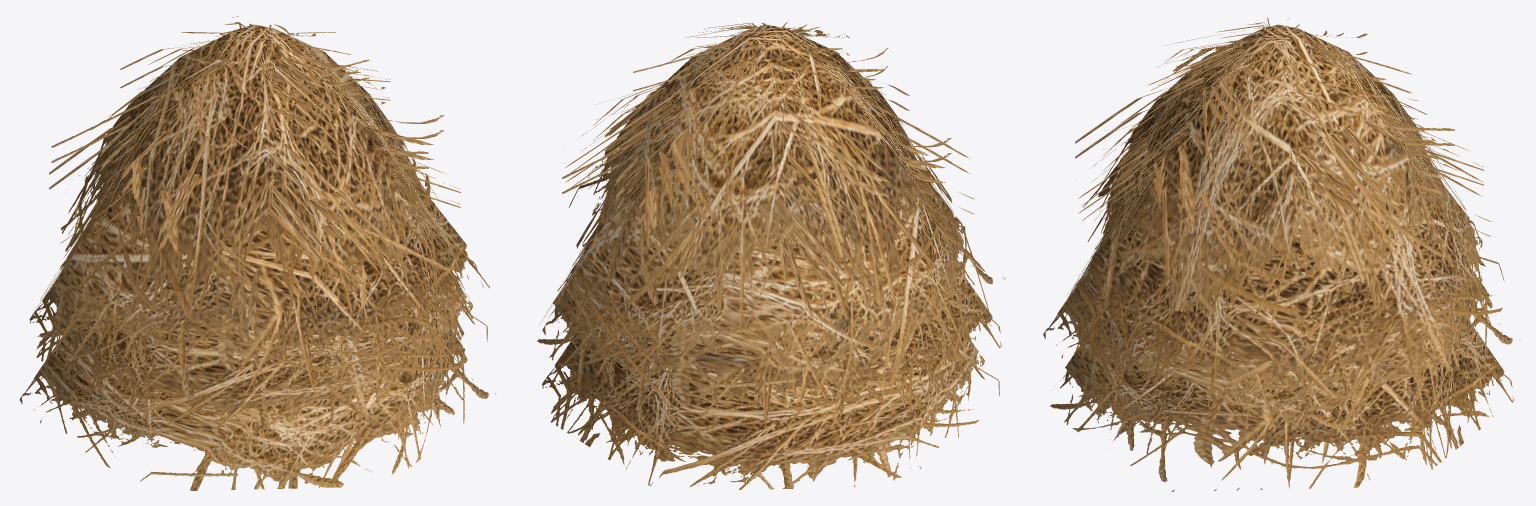
File: sheaf of hay.fbx
The picture shows the model from 3 angles, left to right: view 1: azimuth 30°, elevation 25°; view 2: azimuth 150°, elevation 25°; view 3: azimuth 270°, elevation 25°; orthographic projection.
Parts seen in each view (by area): view 1: sheaf of hay_2, sheaf of hay_1; view 2: sheaf of hay_2, sheaf of hay_1; view 3: sheaf of hay_2, sheaf of hay_1.
Part boxes in pixels (x1,y1,x2,y2): sheaf of hay_2: [25, 16, 496, 490]; sheaf of hay_1: [19, 50, 488, 489]; sheaf of hay_2: [539, 22, 1005, 489]; sheaf of hay_1: [537, 45, 1001, 489]; sheaf of hay_2: [1048, 17, 1520, 491]; sheaf of hay_1: [1043, 52, 1513, 490].
Size of the model in its own units: 414 by 345 by 412.
